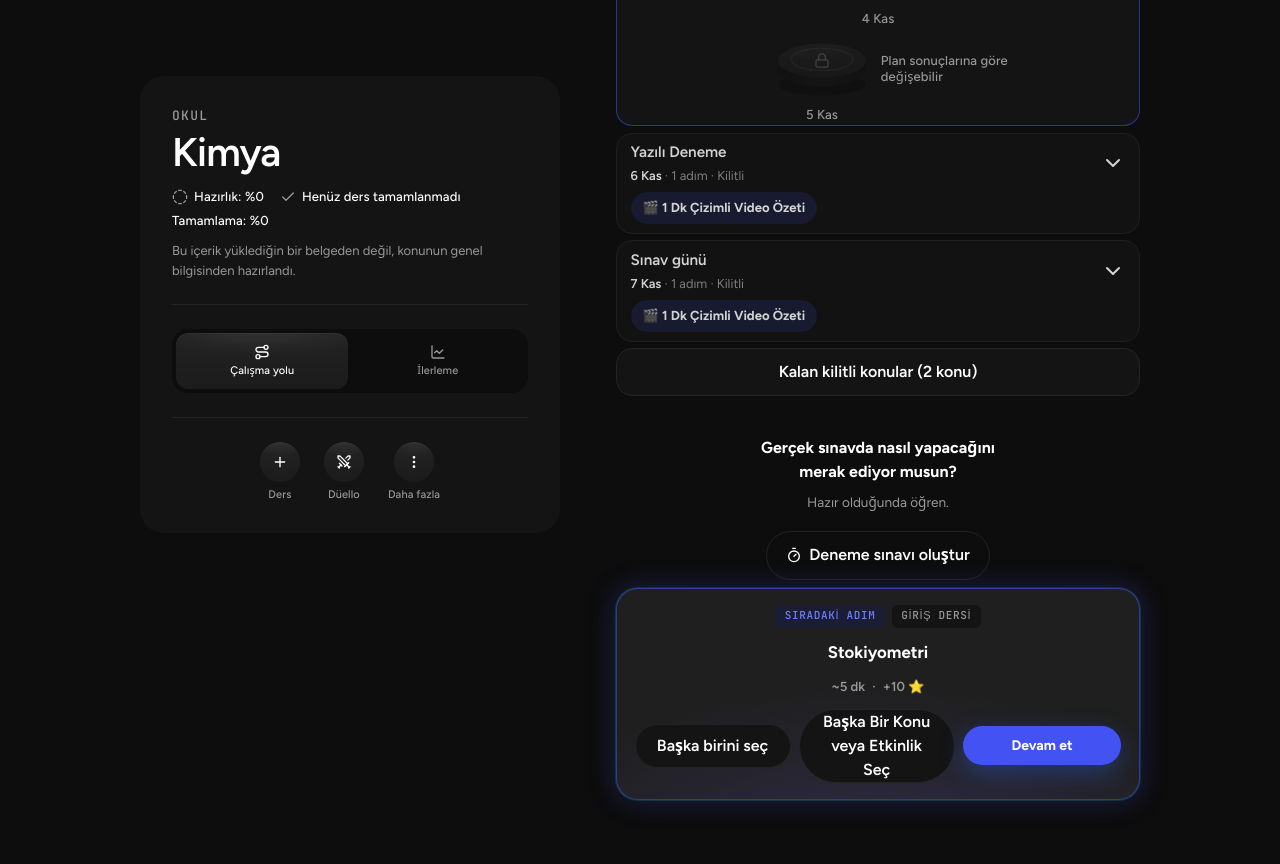
Test: Başka birini seç: seçilen kilitli etkinlik açılır › opens the hub from the next card
This screenshot has width=1280, height=864.
(page scrolled)
What coordinates should you click on to do the following:
click the button "Başka birini seç"
I would click on:
 (713, 746)
Its box is x1=635 y1=724 x2=791 y2=768.
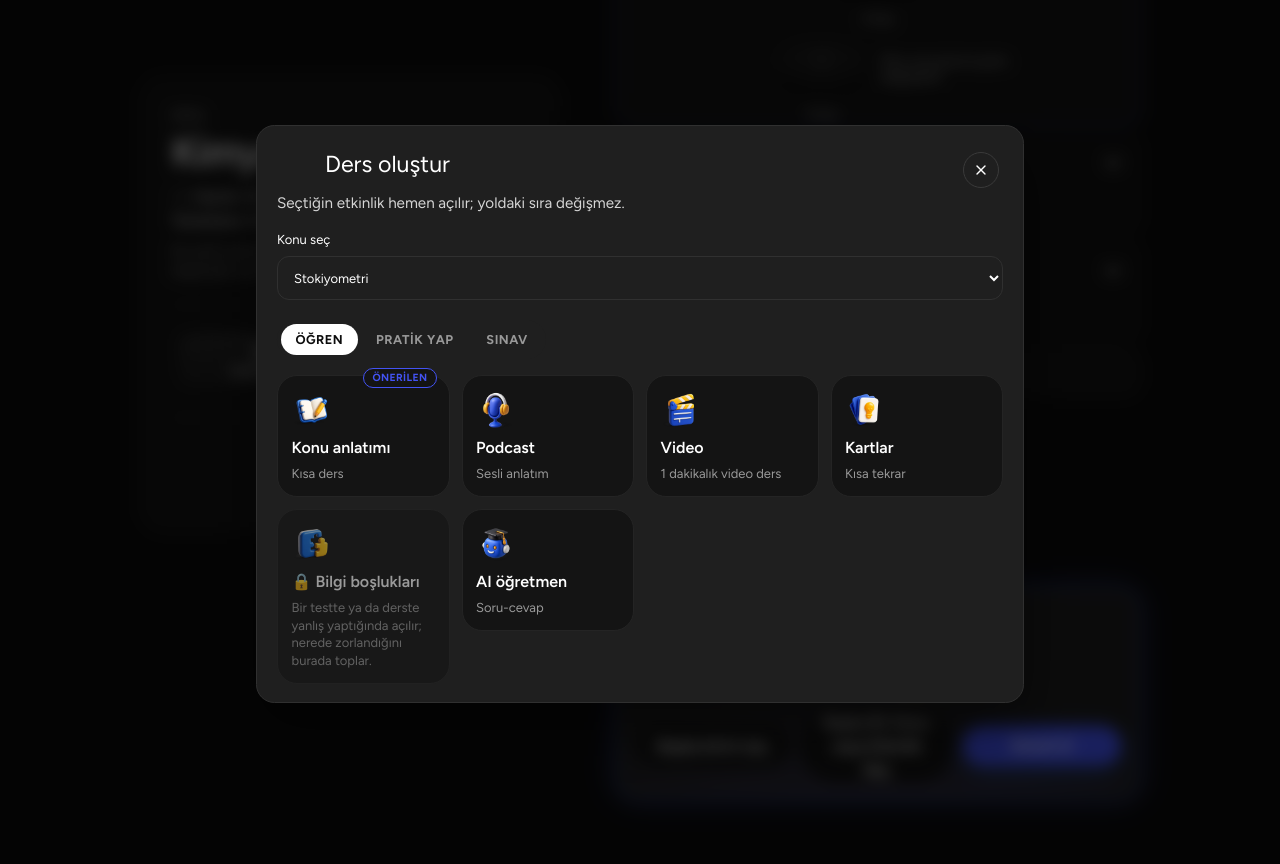
Expected: the dialog "Ders oluştur" is shown, x1=256 y1=125 x2=1024 y2=703
